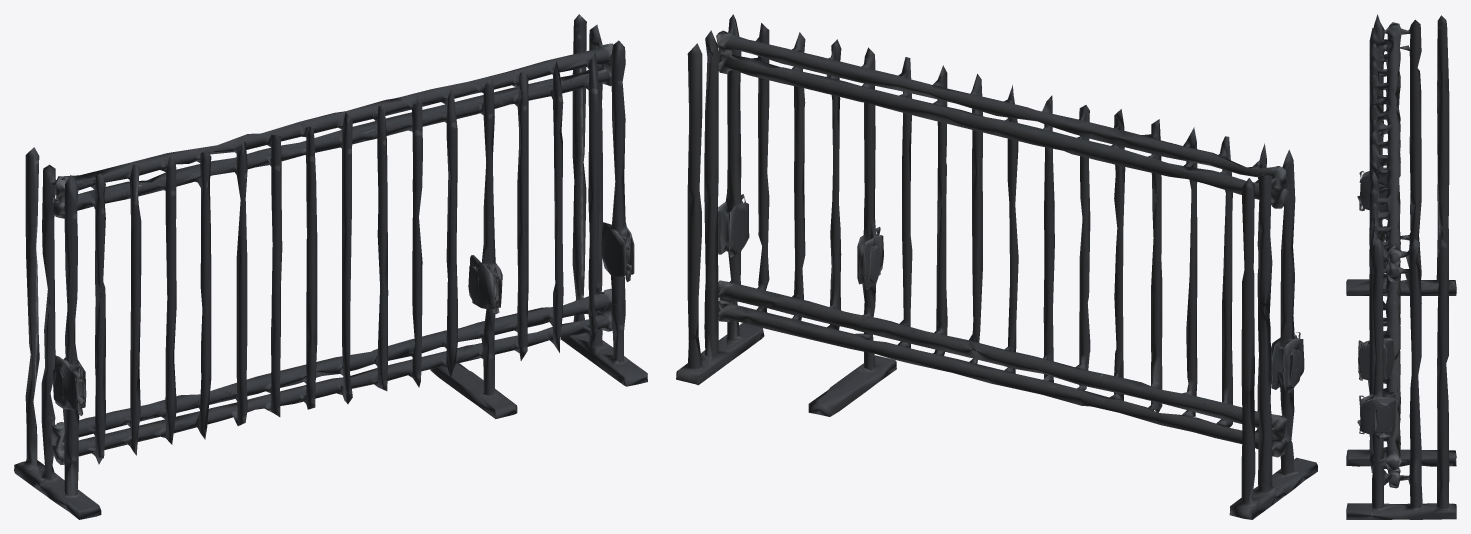
The model's file is crowd_barrier.glb.
3 renders of one model, left to right at view 1: azimuth 30°, elevation 25°; view 2: azimuth 150°, elevation 25°; view 3: azimuth 270°, elevation 25°, orthographic. The views are drawn at different scales.
Size of the model in its own units: 1.9 by 1.05 by 0.3807.
1 material, 1 textured.
